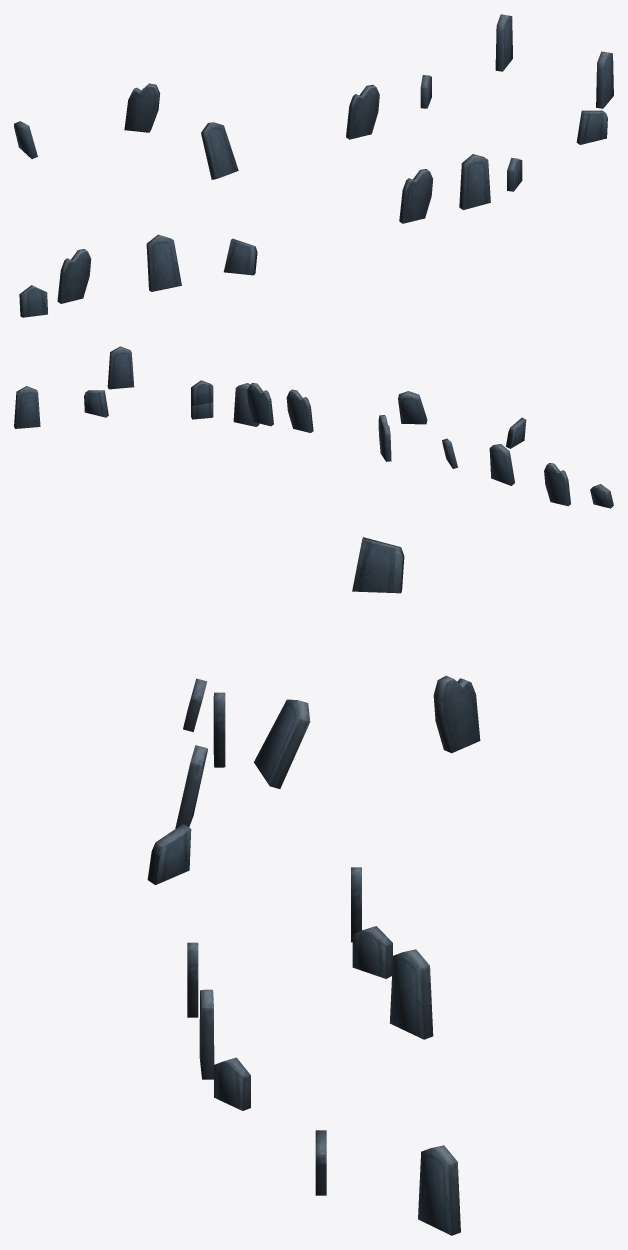
Rendered from Area_13_13.fbx.
3 views of the same model, one above another, from view 1: azimuth 30°, elevation 25°; view 2: azimuth 150°, elevation 25°; view 3: azimuth 270°, elevation 25° (orthographic). The views are drawn at different scales.
Parts seen in each view (by area): view 1: Area_13_13; view 2: Area_13_13; view 3: Area_13_13.
Boxes of the visible parts, <box> form: Area_13_13: <box>14,14,613,317</box>; Area_13_13: <box>14,346,613,508</box>; Area_13_13: <box>147,537,480,1235</box>.
Bounding box in the file's own units: 4015 × 808 × 1083.
